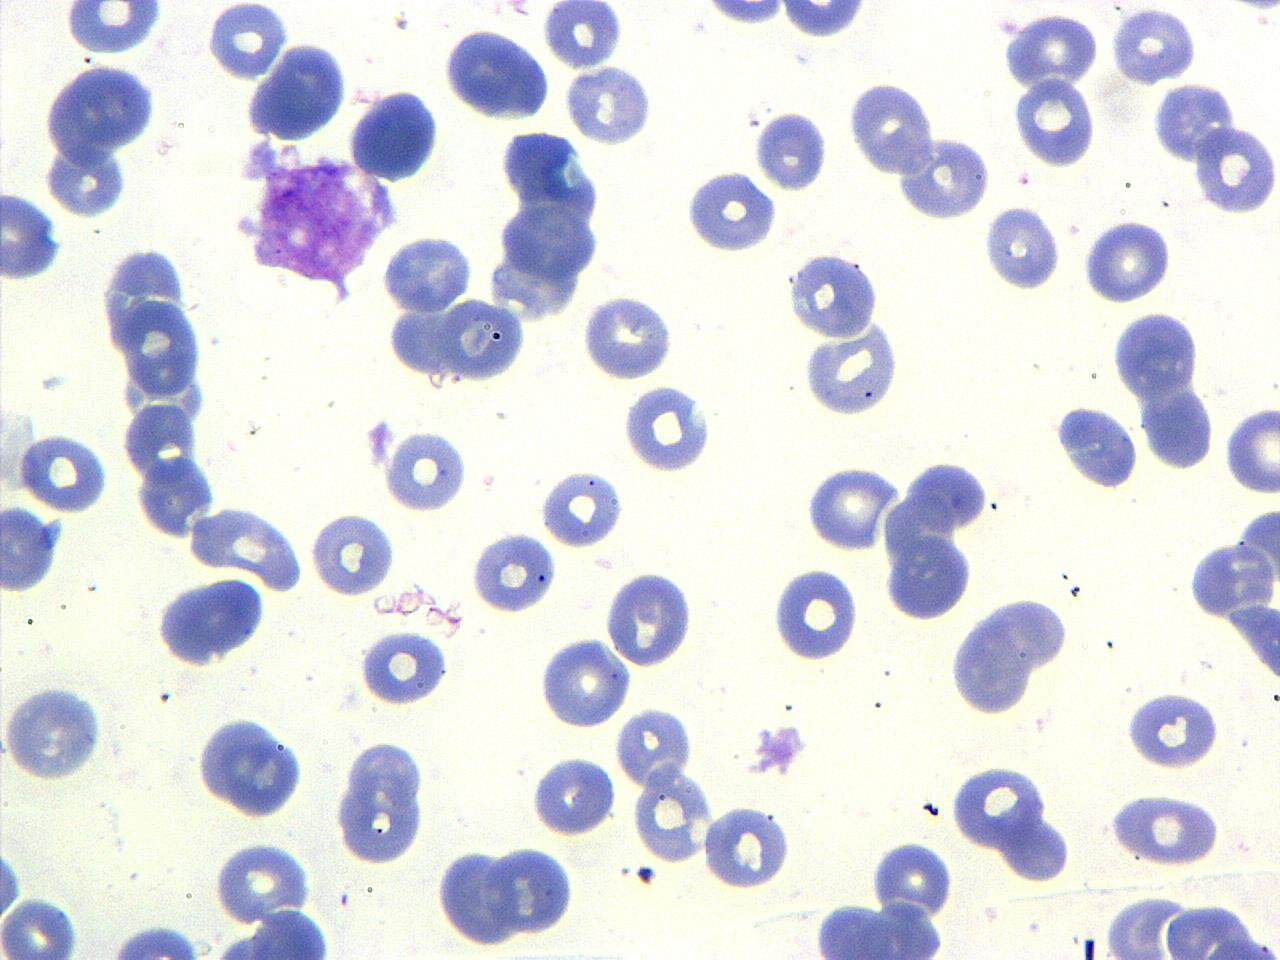Platelets: (0, 183, 65, 285), (365, 417, 393, 469), (772, 722, 808, 757), (744, 750, 782, 778), (1223, 0, 1279, 16), (39, 370, 68, 395), (754, 726, 778, 755), (1082, 934, 1098, 958), (922, 802, 942, 818)
RBC: (186, 501, 302, 593), (119, 289, 204, 404), (946, 761, 1051, 852), (211, 838, 317, 926), (768, 564, 862, 664), (433, 844, 521, 950), (894, 131, 994, 224), (536, 634, 632, 730), (579, 290, 676, 383), (846, 78, 934, 178), (702, 799, 795, 893), (629, 764, 715, 866), (802, 461, 898, 552), (1107, 792, 1223, 866), (786, 249, 882, 339), (1109, 309, 1201, 400), (1012, 72, 1097, 169), (306, 508, 398, 598), (1079, 217, 1173, 305), (16, 429, 112, 514), (1193, 120, 1277, 218), (435, 298, 530, 383), (982, 201, 1064, 294), (383, 426, 469, 514), (1109, 5, 1199, 88), (868, 837, 954, 919), (540, 470, 624, 553), (752, 107, 830, 193), (204, 3, 286, 82), (542, 0, 624, 71), (62, 1, 165, 56), (0, 893, 83, 959), (1223, 402, 1279, 497), (0, 395, 39, 495)
WBC: (233, 29, 403, 316), (488, 120, 608, 323), (378, 237, 522, 391), (882, 451, 992, 625), (1187, 492, 1280, 697), (105, 241, 214, 402), (948, 592, 1073, 718), (1091, 880, 1280, 960), (333, 731, 436, 869), (193, 712, 309, 823), (41, 57, 160, 164), (807, 881, 964, 959), (796, 317, 906, 425), (154, 572, 270, 670), (248, 37, 352, 145), (1, 680, 109, 783), (440, 25, 554, 121), (377, 229, 489, 323), (186, 506, 308, 592), (602, 566, 696, 670), (346, 87, 444, 185), (536, 634, 633, 732), (893, 131, 994, 225), (211, 837, 316, 926), (620, 379, 716, 477), (769, 566, 863, 666), (580, 290, 678, 384), (847, 75, 933, 179), (433, 844, 520, 949), (997, 7, 1103, 93), (629, 766, 719, 866), (785, 247, 881, 340), (682, 166, 781, 256), (486, 841, 578, 937), (1106, 794, 1222, 868), (1110, 308, 1200, 402), (562, 59, 657, 149), (702, 800, 792, 893), (430, 298, 528, 384), (1150, 78, 1242, 168), (1080, 217, 1174, 306), (1122, 688, 1220, 772), (1052, 400, 1142, 492), (308, 507, 396, 600), (527, 750, 620, 837), (981, 200, 1065, 294), (382, 425, 471, 514), (470, 528, 560, 616), (536, 465, 626, 552), (1194, 124, 1278, 216), (1110, 4, 1198, 90), (356, 627, 449, 708), (1138, 381, 1218, 474), (202, 908, 342, 960), (43, 134, 130, 218), (664, 0, 872, 34), (614, 704, 698, 788), (752, 105, 830, 194), (206, 0, 288, 82), (0, 184, 65, 283), (0, 500, 65, 596), (542, 0, 624, 68), (2, 892, 84, 960), (764, 0, 880, 40), (97, 922, 214, 959), (696, 0, 790, 30)
